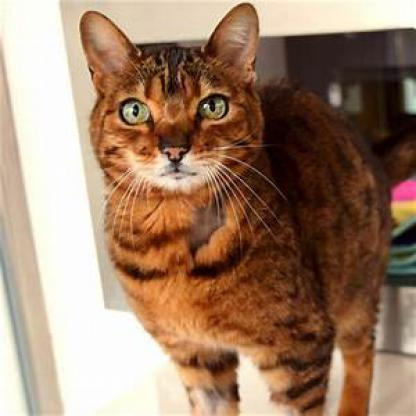cat: (59, 10, 400, 410)
